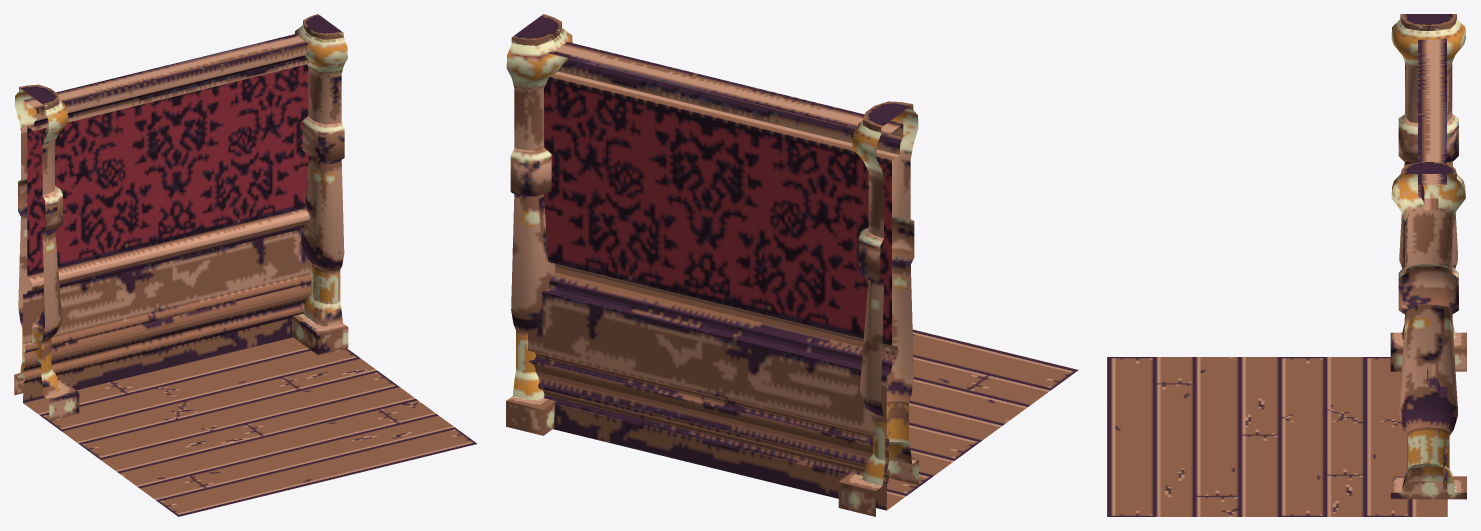
Rendered from tile_wall.fbx.
3 renders of one model, left to right at view 1: azimuth 30°, elevation 25°; view 2: azimuth 150°, elevation 25°; view 3: azimuth 270°, elevation 25°, orthographic. The views are drawn at different scales.
Parts seen in each view (by area): view 1: tile_wall_v1; view 2: tile_wall_v1; view 3: tile_wall_v1.
Boxes of the visible parts, x1=… form: tile_wall_v1: x1=14, y1=14, x2=476, y2=516; tile_wall_v1: x1=506, y1=14, x2=1078, y2=516; tile_wall_v1: x1=1107, y1=14, x2=1466, y2=516.
Size of what is drawn, in the model's own units: 200 by 200 by 190.
